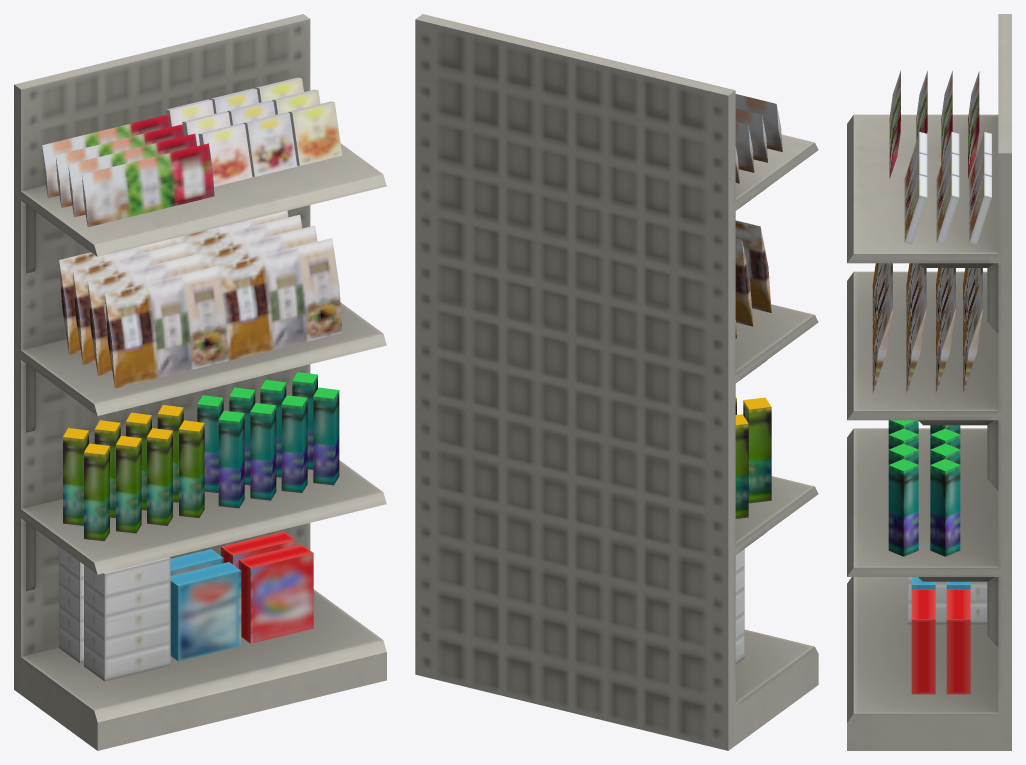
The model's file is sb_obj_ModernCity062_store_shelf_b.fbx.
The picture shows the model from 3 angles, left to right: view 1: azimuth 30°, elevation 25°; view 2: azimuth 150°, elevation 25°; view 3: azimuth 270°, elevation 25°; orthographic projection. The views are drawn at different scales.
Parts seen in each view (by area): view 1: sb_obj_ModernCity062_store_shelf_b; view 2: sb_obj_ModernCity062_store_shelf_b; view 3: sb_obj_ModernCity062_store_shelf_b.
Part boxes in pixels (x1,y1,x2,y2): sb_obj_ModernCity062_store_shelf_b: (14,14,386,750); sb_obj_ModernCity062_store_shelf_b: (415,14,818,750); sb_obj_ModernCity062_store_shelf_b: (847,14,1011,750).
Size of the model in its own units: 0.64 by 1.28 by 0.32.
